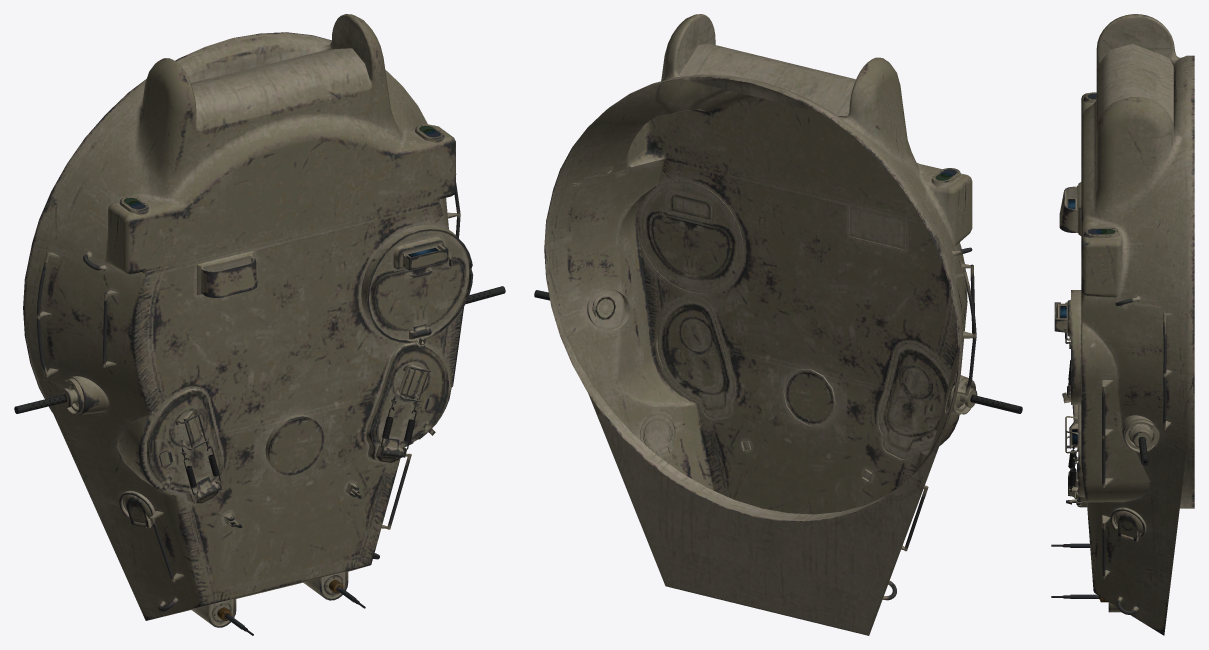
The model's file is Turret_01.glb.
3 views of the same model, side by side, from view 1: azimuth 30°, elevation 25°; view 2: azimuth 150°, elevation 25°; view 3: azimuth 270°, elevation 25° (orthographic). The views are drawn at different scales.
Visible parts, largest first — view 1: set_0_group_0; view 2: set_0_group_0; view 3: set_0_group_0.
Boxes of the visible parts, box(x1,y1,x2,y2) form: set_0_group_0: box(14, 14, 505, 635); set_0_group_0: box(534, 14, 1022, 635); set_0_group_0: box(1051, 14, 1194, 635).
Bounding box in the file's own units: 3.5 × 3.88 × 0.9473.
1 material, 1 textured.
